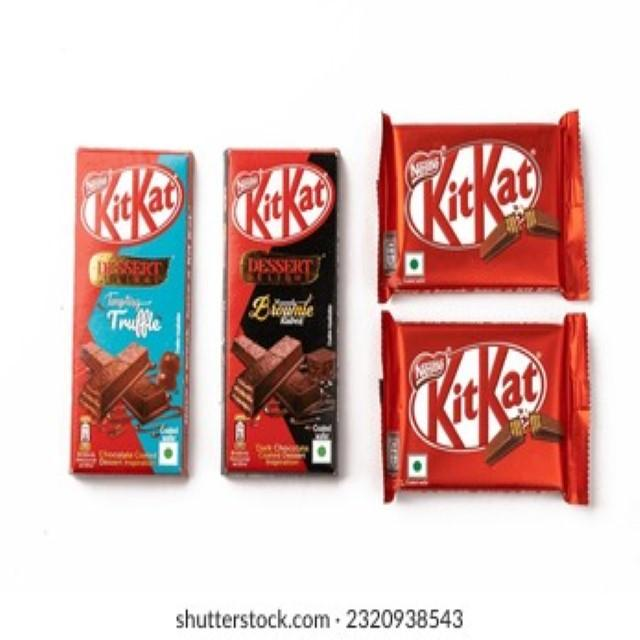kitkat_chocolate: (375, 104, 585, 314), (380, 313, 583, 505), (74, 145, 188, 465), (240, 156, 338, 476)
